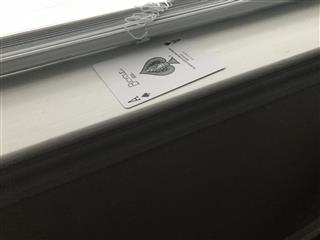AceOfSpades: (92, 34, 225, 108)
